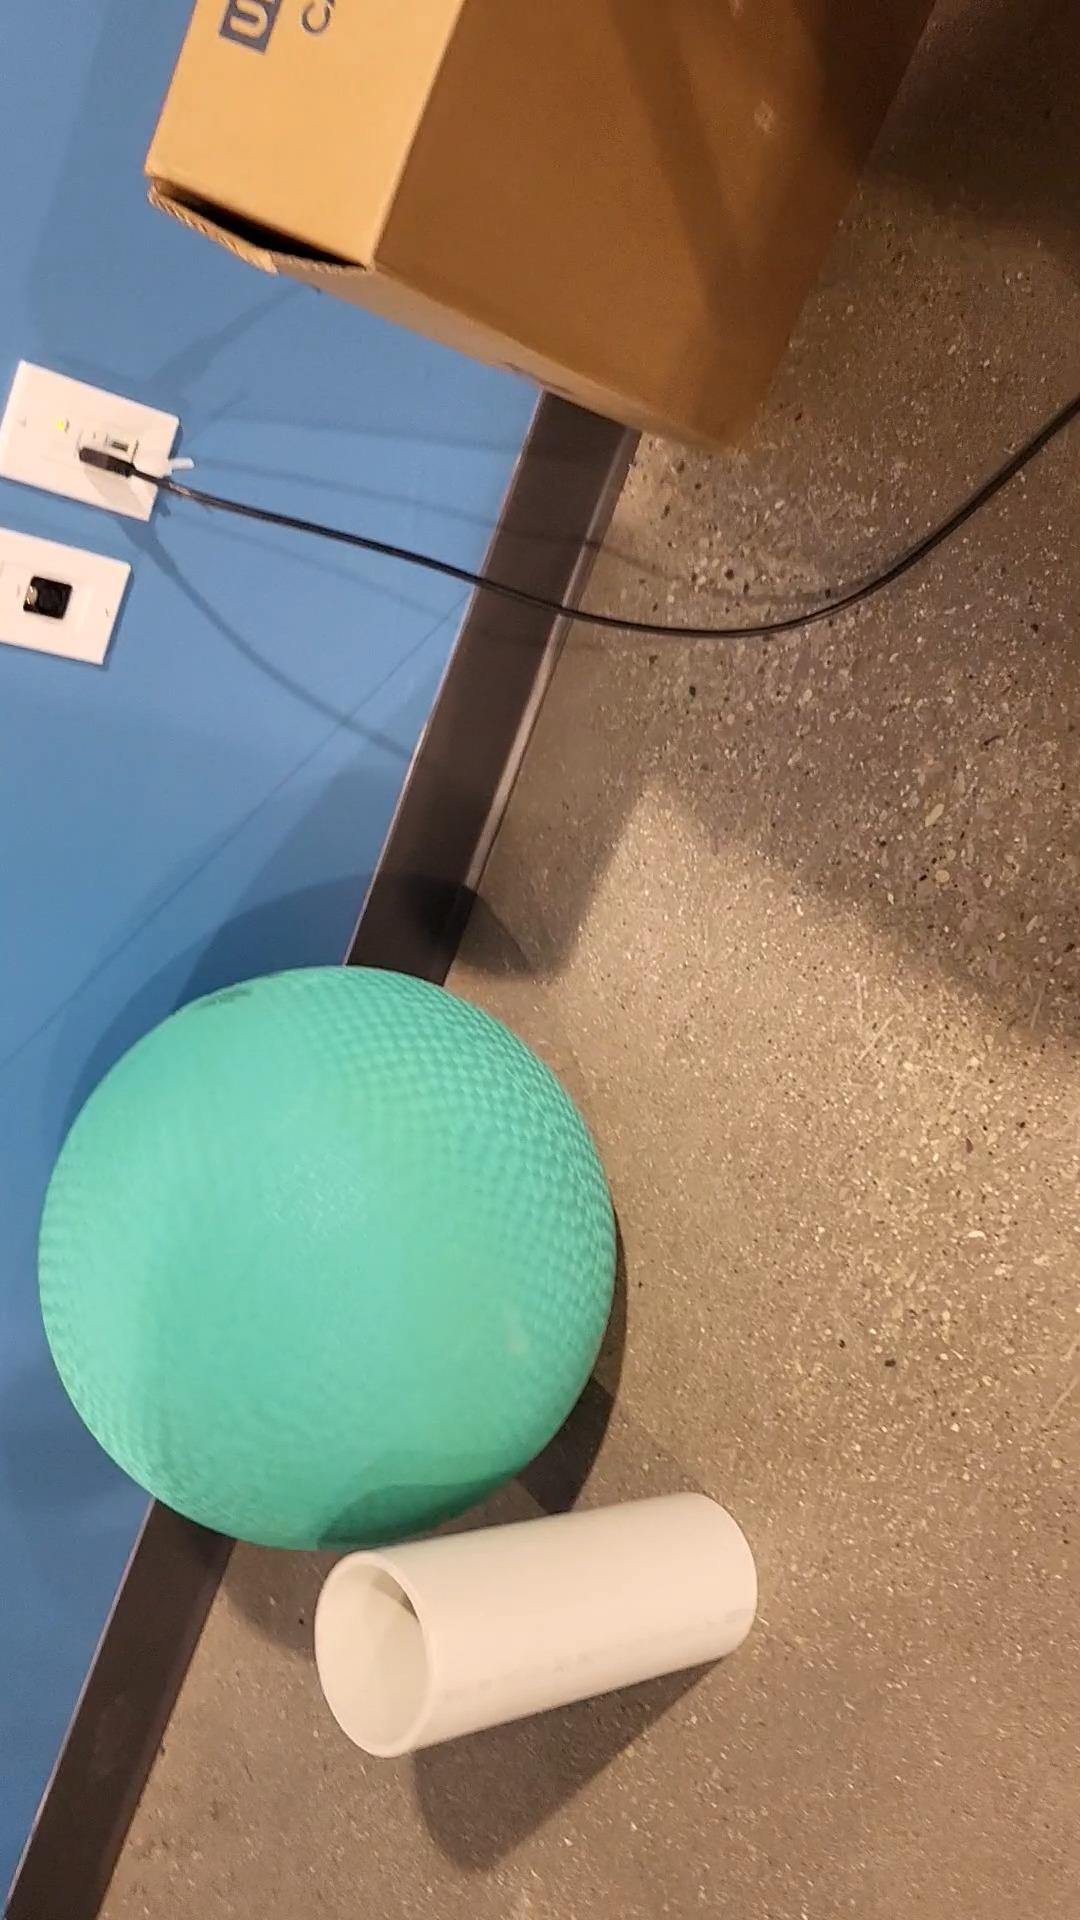algae: (42, 969, 617, 1552)
coral: (314, 1493, 758, 1758)
